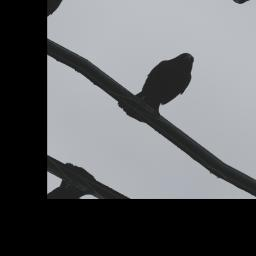Crow: (115, 42, 209, 132)
